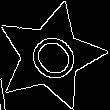O_SE: (17, 23, 84, 90)
